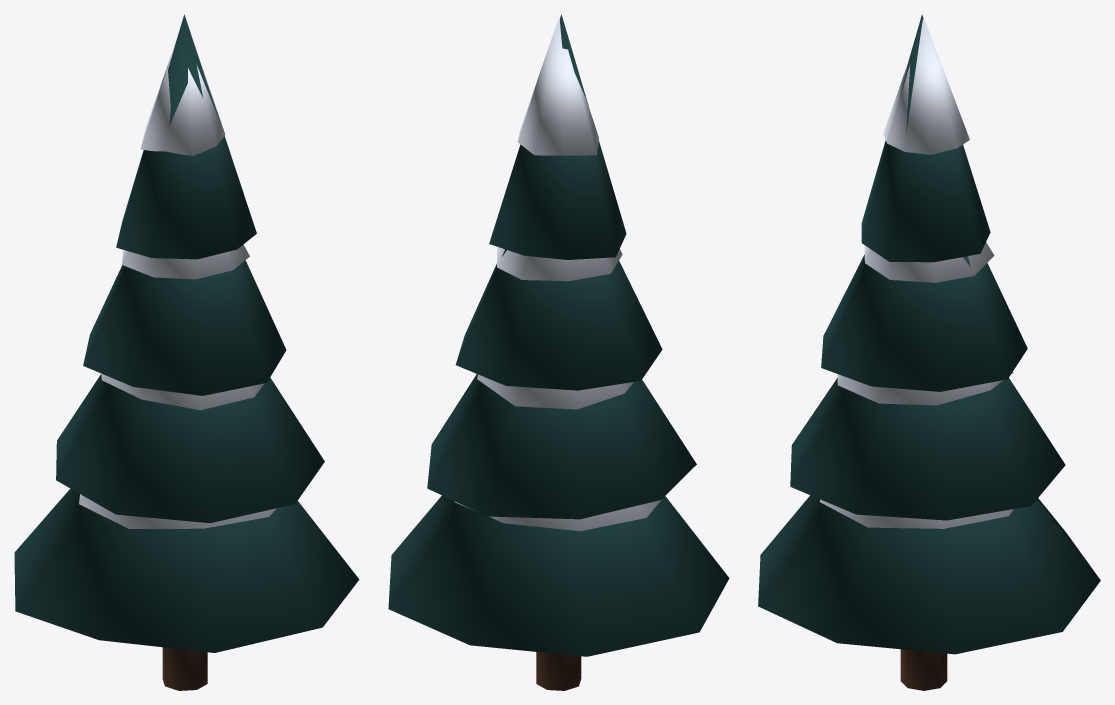
Rendered from pine_snow.glb.
3 renders of one model, left to right at view 1: azimuth 30°, elevation 25°; view 2: azimuth 150°, elevation 25°; view 3: azimuth 270°, elevation 25°, orthographic.
Visible parts, largest first — view 1: pine_snow; view 2: pine_snow; view 3: pine_snow.
Part boxes in pixels (x1,y1,x2,y2): pine_snow: (14, 14, 359, 690); pine_snow: (388, 14, 729, 690); pine_snow: (758, 14, 1100, 690).
Size of the model in its own units: 3.2 by 6.65 by 3.1.
